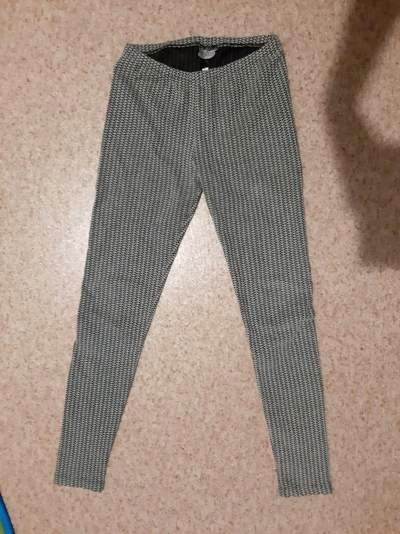Pants: (60, 33, 344, 512)
